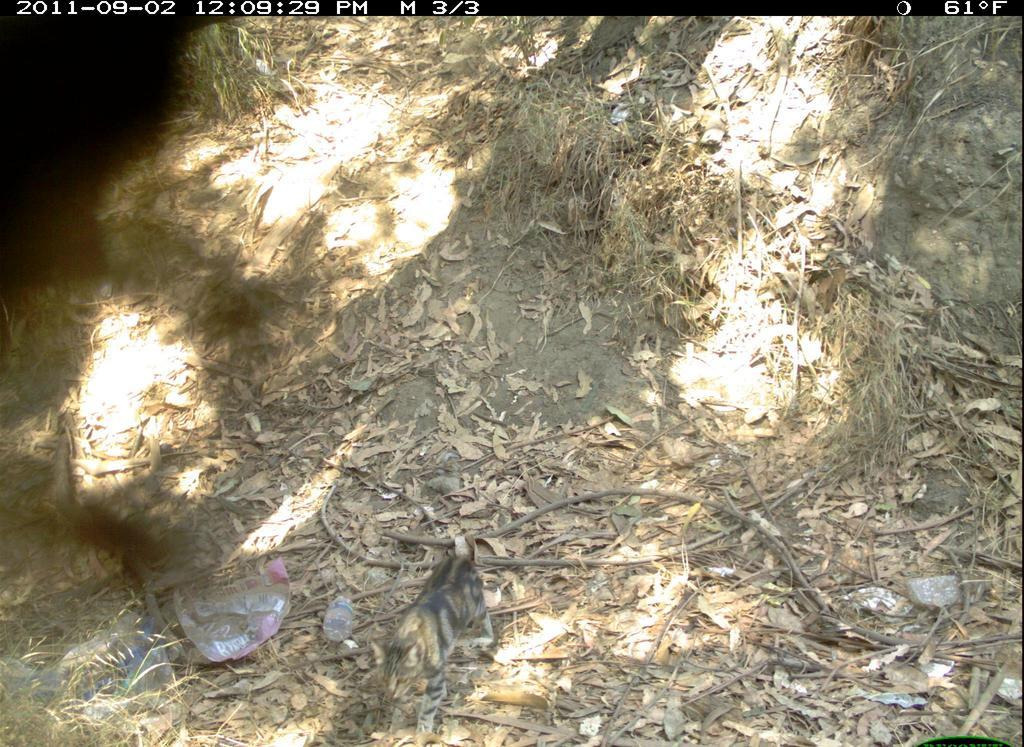cat: (381, 533, 516, 743)
